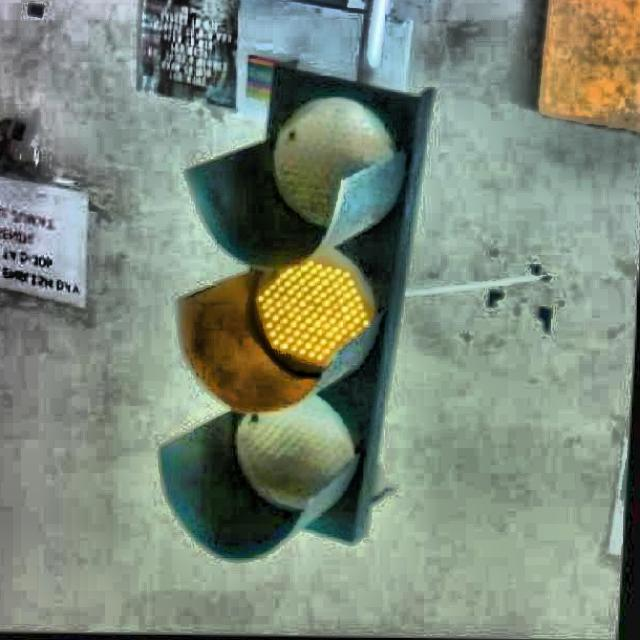yellow: (174, 71, 424, 548)
